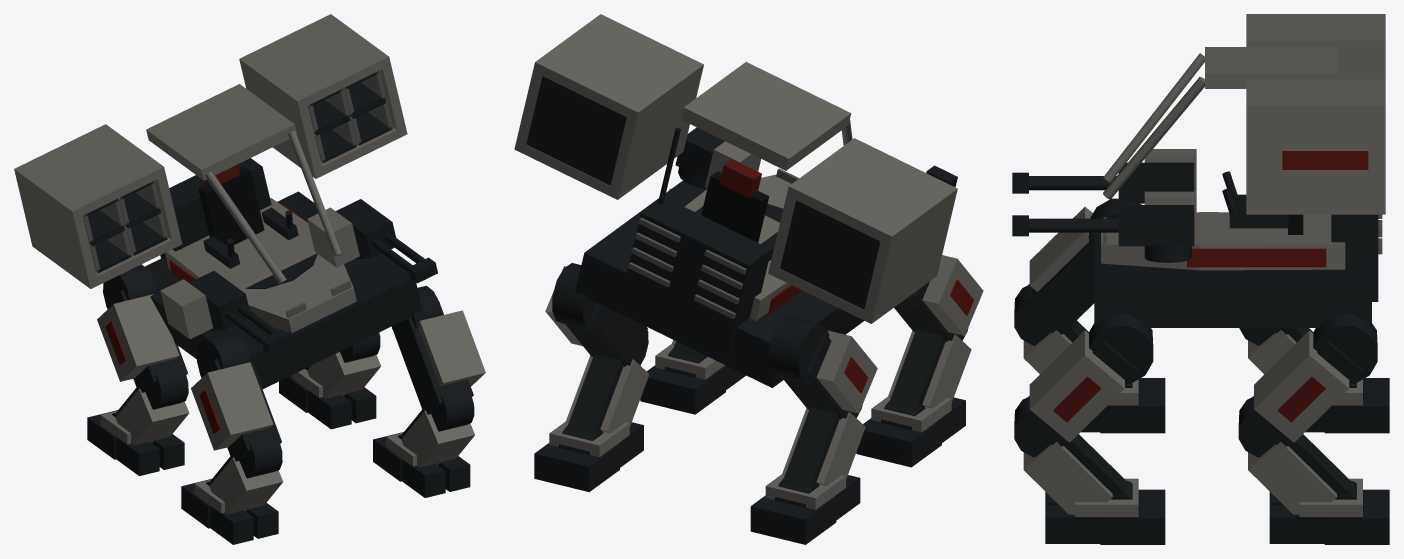
3 views of the same model, side by side, from view 1: azimuth 30°, elevation 25°; view 2: azimuth 150°, elevation 25°; view 3: azimuth 270°, elevation 25° (orthographic). The views are drawn at different scales.
Parts seen in each view (by area): view 1: mech-torso-painted, mech-silo-left-painted, mech-silo-right-painted, mech-hip-1-painted, mech-hip-3-painted, mech-hip-0-painted, mech-mg-pitch-left-painted, mech-mg-pitch-right-painted, mech-seat-pilot-painted, mech-knee-0-painted, mech-knee-1-painted, mech-knee-3-painted (+5 smaller); view 2: mech-torso-painted, mech-silo-left-painted, mech-silo-right-painted, mech-hip-0-painted, mech-ankle-0-painted, mech-ankle-2-painted, mech-ankle-1-painted, mech-hip-2-painted, mech-knee-2-painted, mech-knee-1-painted, mech-knee-0-painted, mech-ankle-3-painted (+3 smaller); view 3: mech-torso-painted, mech-silo-right-painted, mech-hip-3-painted, mech-hip-2-painted, mech-silo-left-painted, mech-hip-1-painted, mech-knee-3-painted, mech-knee-2-painted, mech-ankle-3-painted, mech-ankle-2-painted, mech-mg-pitch-right-painted, mech-mg-pitch-left-painted (+6 smaller).
Boxes of the visible parts, x1,y1,x2,y2 form: mech-torso-painted: (145,84,422,388); mech-silo-left-painted: (14,124,182,288); mech-silo-right-painted: (239,14,407,178); mech-hip-1-painted: (191,332,281,461); mech-hip-3-painted: (391,286,485,414); mech-hip-0-painted: (97,264,187,392); mech-mg-pitch-left-painted: (160,271,291,355); mech-mg-pitch-right-painted: (307,199,437,283); mech-seat-pilot-painted: (198,164,298,268); mech-knee-0-painted: (115,365,189,445); mech-knee-1-painted: (209,434,283,514); mech-knee-3-painted: (401,387,474,467); mech-torso-painted: (575,62,864,387); mech-silo-left-painted: (768,138,957,323); mech-silo-right-painted: (514,14,703,199); mech-hip-0-painted: (768,315,877,418); mech-ankle-0-painted: (750,474,860,544); mech-ankle-2-painted: (534,421,643,492); mech-ankle-1-painted: (856,396,965,467); mech-hip-2-painted: (545,263,647,365); mech-knee-2-painted: (566,330,649,436); mech-knee-1-painted: (888,328,971,411); mech-knee-0-painted: (782,405,865,488); mech-ankle-3-painted: (640,344,745,414); mech-torso-painted: (1094,47,1382,327); mech-silo-right-painted: (1246,79,1385,214); mech-hip-3-painted: (1023,314,1153,446); mech-hip-2-painted: (1248,314,1377,446); mech-silo-left-painted: (1246,14,1385,79); mech-hip-1-painted: (1023,198,1141,334); mech-knee-3-painted: (1014,396,1127,514); mech-knee-2-painted: (1238,396,1351,514); mech-ankle-3-painted: (1045,478,1165,544); mech-ankle-2-painted: (1269,478,1389,544); mech-mg-pitch-right-painted: (1012,191,1196,246); mech-mg-pitch-left-painted: (1012,149,1196,203).
Size of the model in its own units: 17.7 by 18.58 by 14.45.
